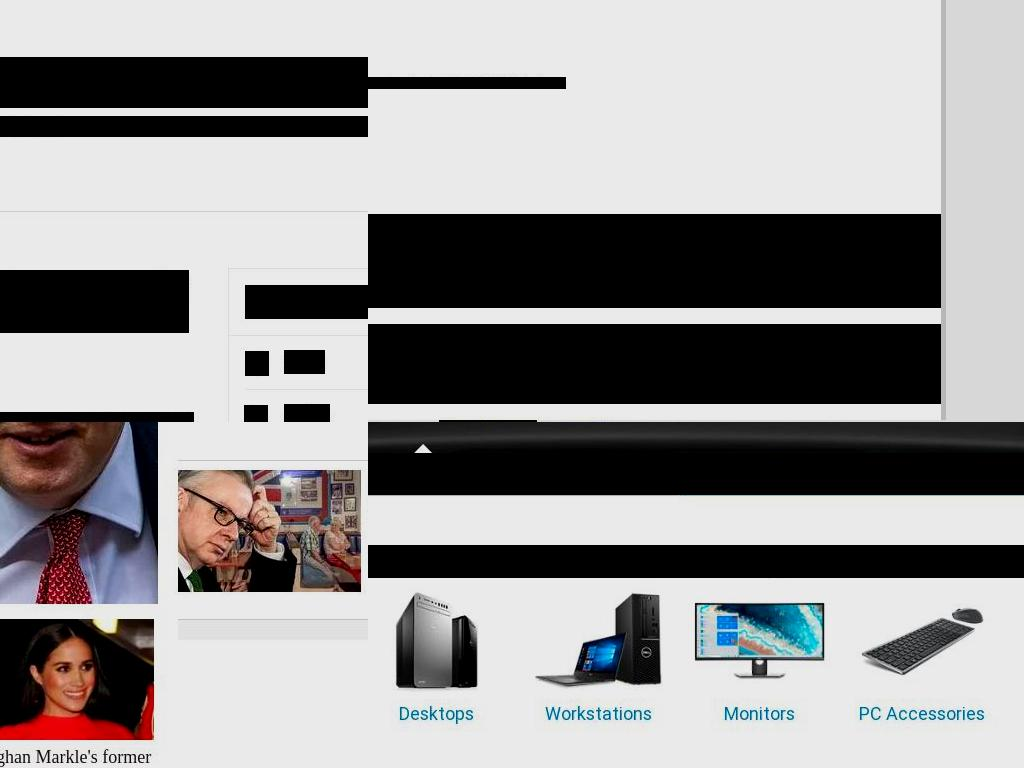button: (517, 587, 680, 734), (178, 470, 368, 592), (0, 619, 154, 768), (370, 587, 503, 725), (855, 587, 988, 725), (694, 587, 826, 725), (679, 453, 1024, 495), (368, 453, 679, 495)
field: (245, 285, 368, 319)
heading: (178, 422, 368, 604), (368, 545, 1024, 578), (0, 270, 189, 333), (0, 747, 154, 768), (370, 702, 503, 725), (532, 702, 665, 725), (855, 702, 988, 725), (694, 702, 826, 725), (284, 350, 325, 374), (284, 404, 330, 422)
image: (0, 422, 158, 604), (178, 470, 361, 592), (0, 619, 154, 741), (0, 57, 368, 108), (370, 587, 503, 693), (532, 587, 665, 693), (855, 587, 988, 693), (694, 587, 826, 693), (245, 351, 269, 376)
text: (368, 214, 941, 308), (368, 351, 941, 404), (368, 324, 941, 351), (0, 116, 368, 137), (178, 619, 368, 640), (368, 77, 566, 89), (244, 405, 268, 422)
